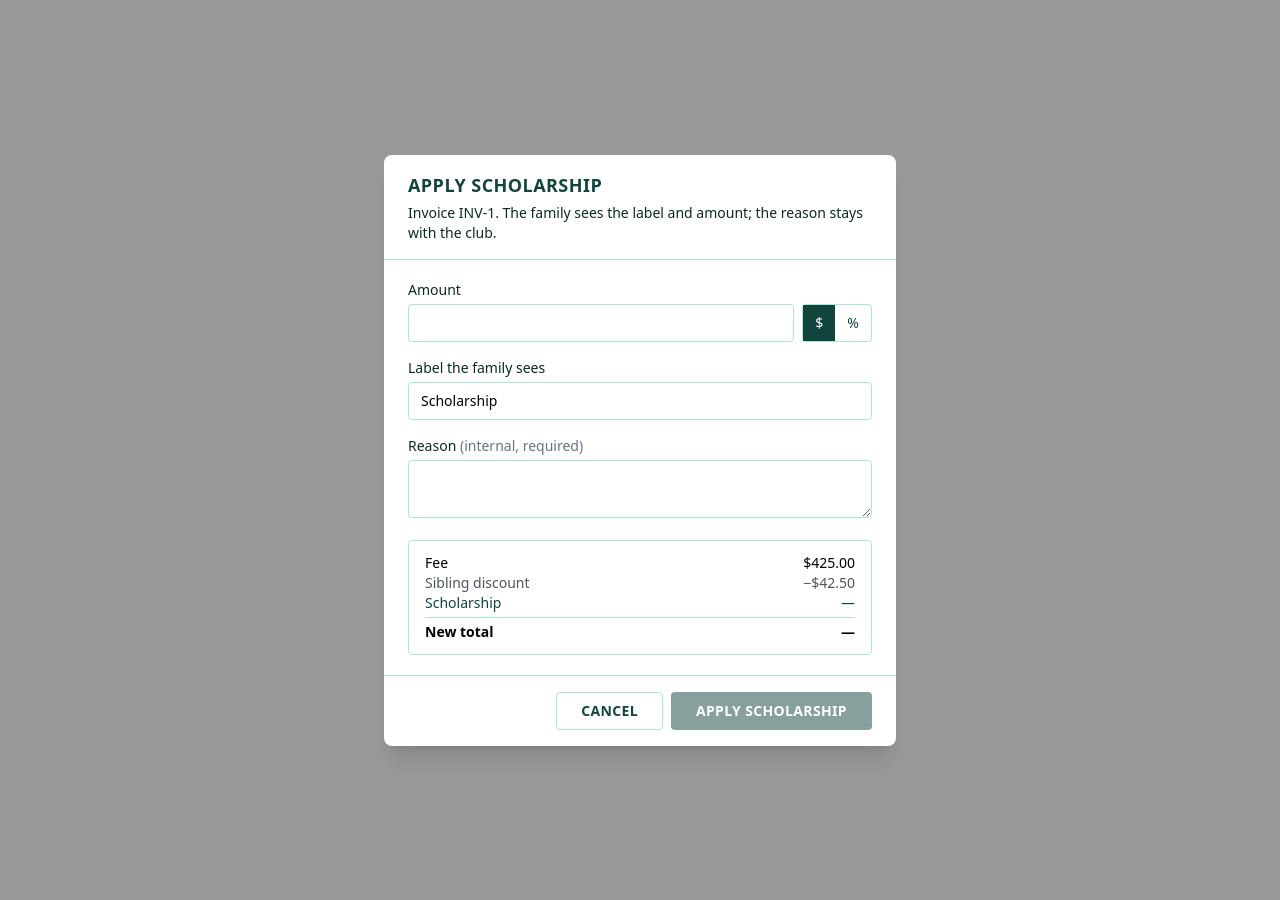
Test: renders the server's refusal verbatim
Type "100" into the number field labelled "Amount" at (601, 322), box x1=408 y1=304 x2=794 y2=342
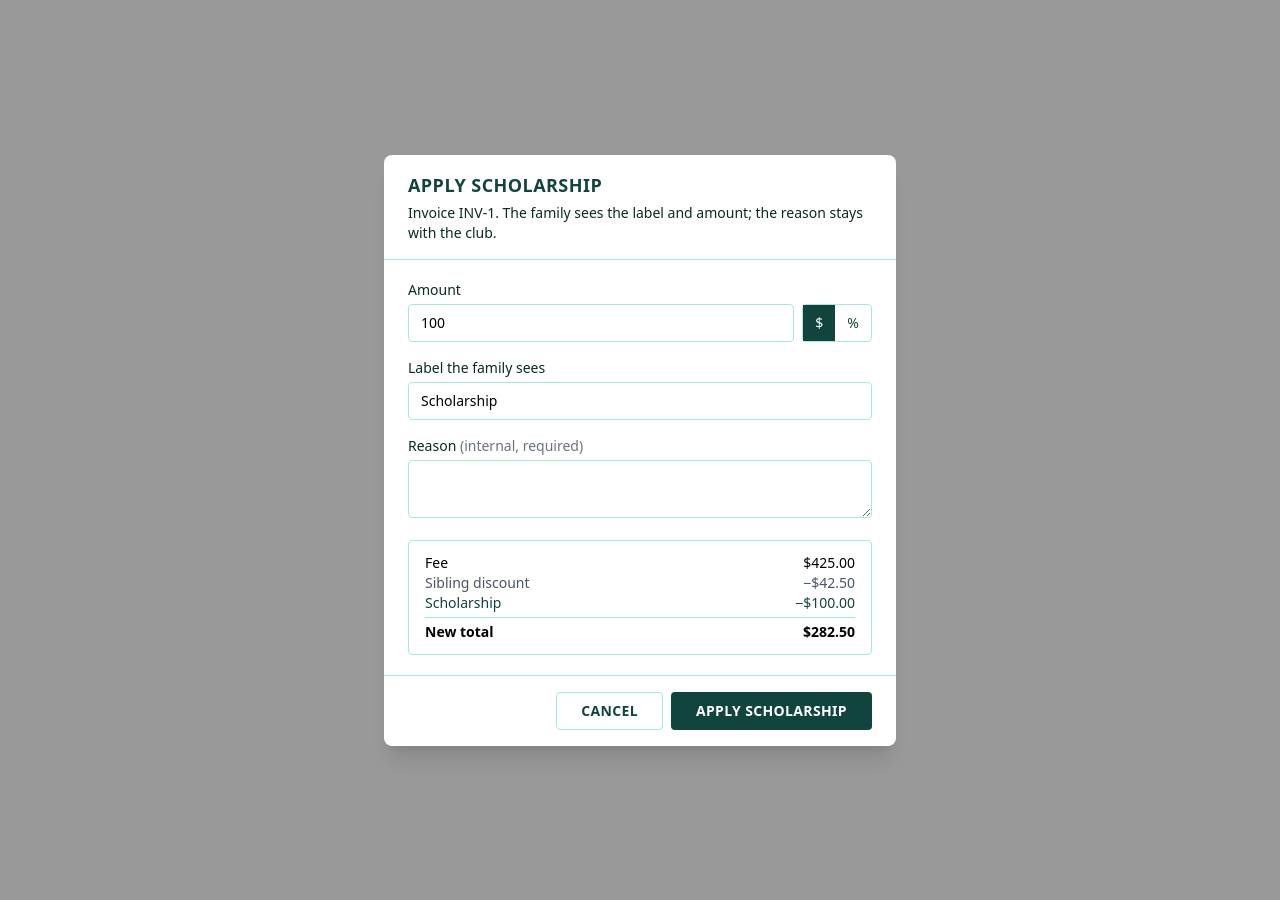
Type "r" into the text box labelled "Reason (internal, required)" at (640, 488), box x1=408 y1=460 x2=872 y2=518
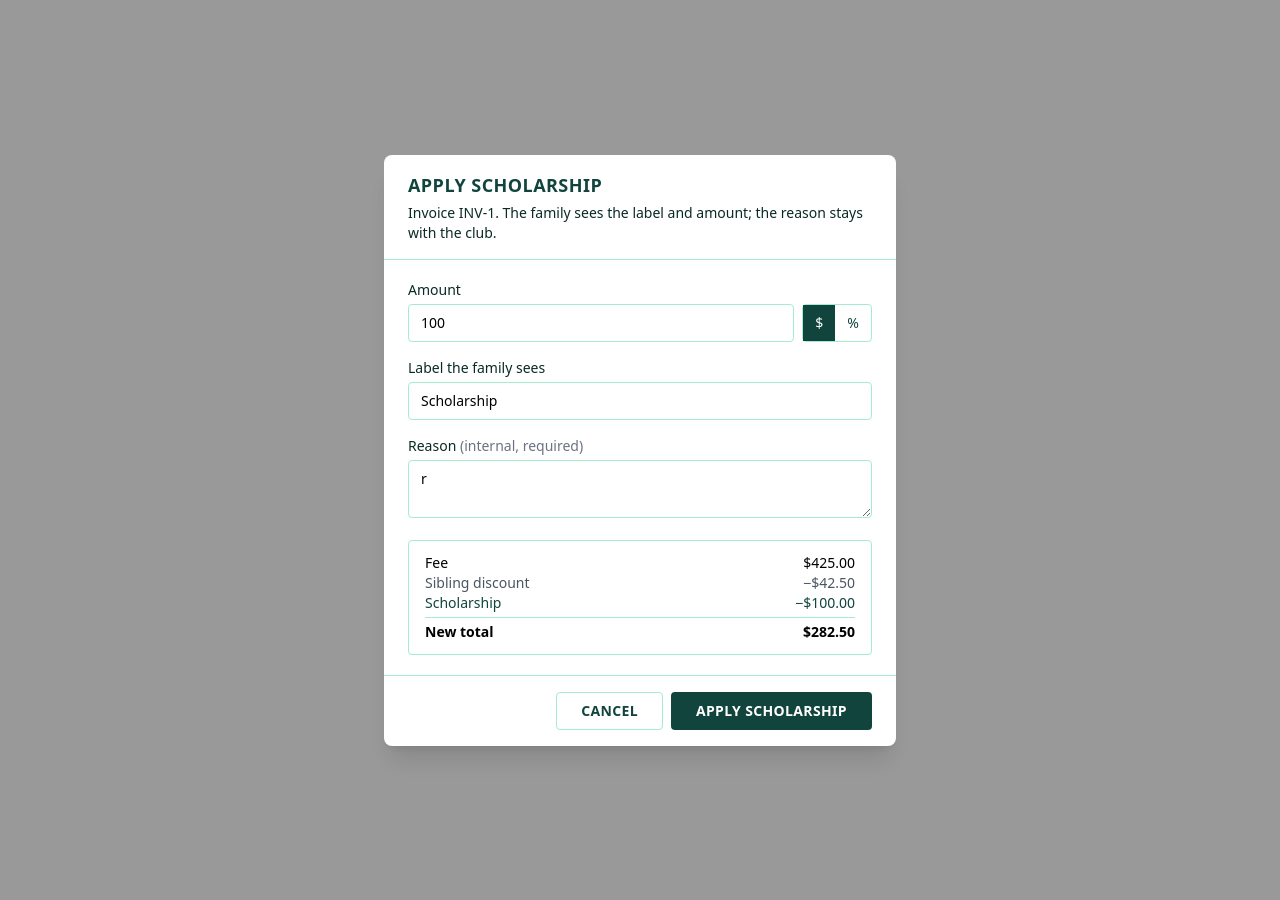
Click the button "Apply scholarship" at (772, 710), box x1=671 y1=692 x2=872 y2=730
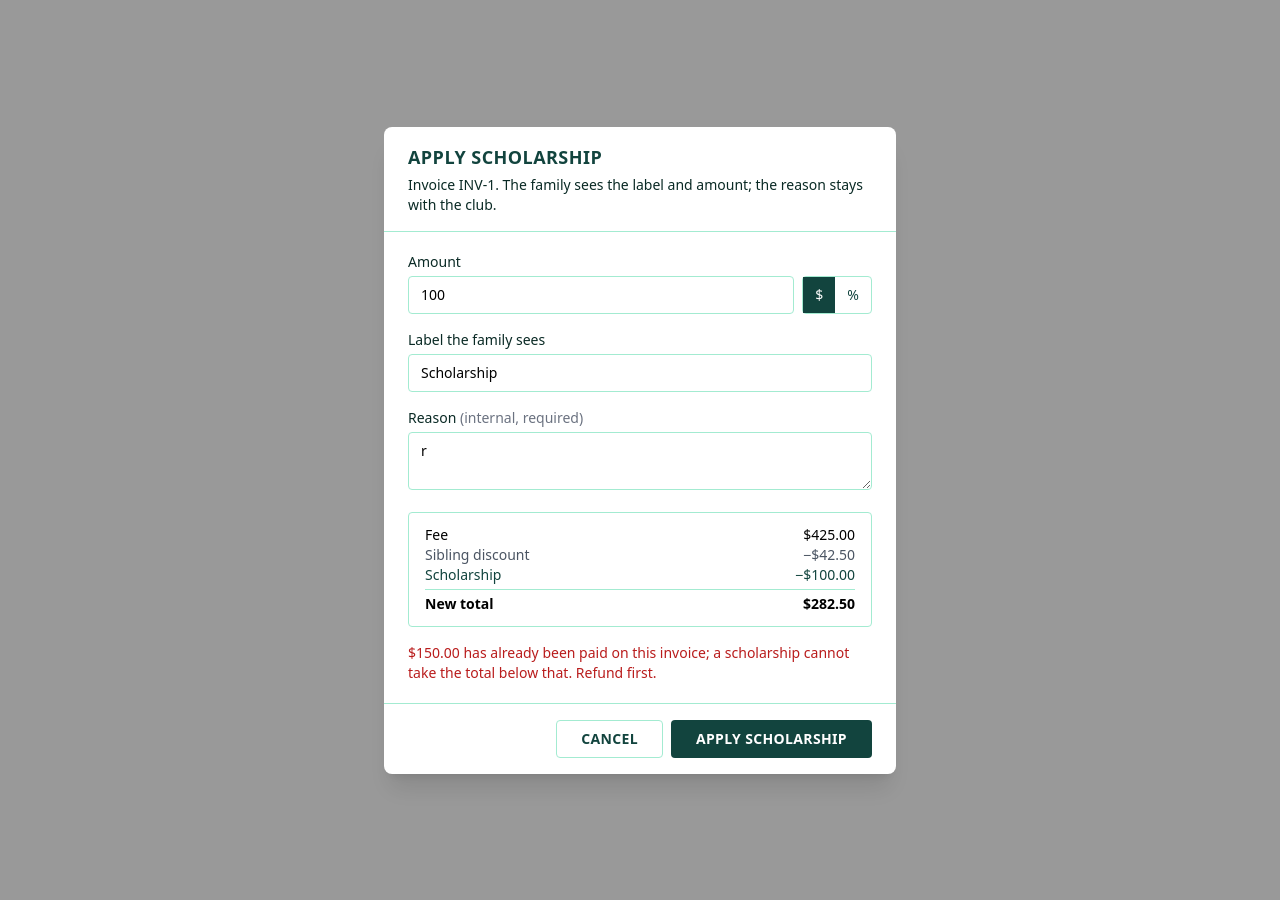
Expected: the message shows "Refund first.", x1=408 y1=642 x2=849 y2=682
